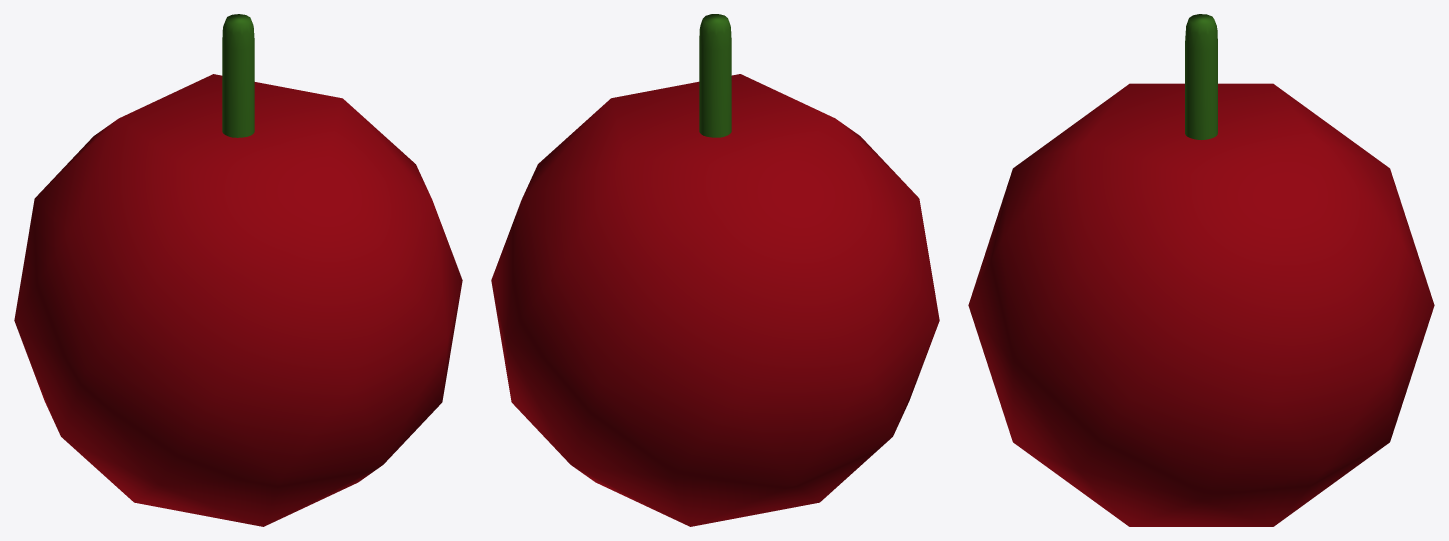
Rendered from Berry.fbx.
The picture shows the model from 3 angles, left to right: view 1: azimuth 30°, elevation 25°; view 2: azimuth 150°, elevation 25°; view 3: azimuth 270°, elevation 25°; orthographic projection.
Parts seen in each view (by area): view 1: Икосфера, Цилиндр; view 2: Икосфера, Цилиндр; view 3: Икосфера, Цилиндр.
Boxes of the visible parts, x1,y1,x2,y2 form: Икосфера: (14,74,462,526); Цилиндр: (222,14,254,137); Икосфера: (491,74,939,526); Цилиндр: (699,14,731,137); Икосфера: (968,83,1434,526); Цилиндр: (1185,14,1217,139).
Size of the model in its own units: 190 by 235 by 200.
